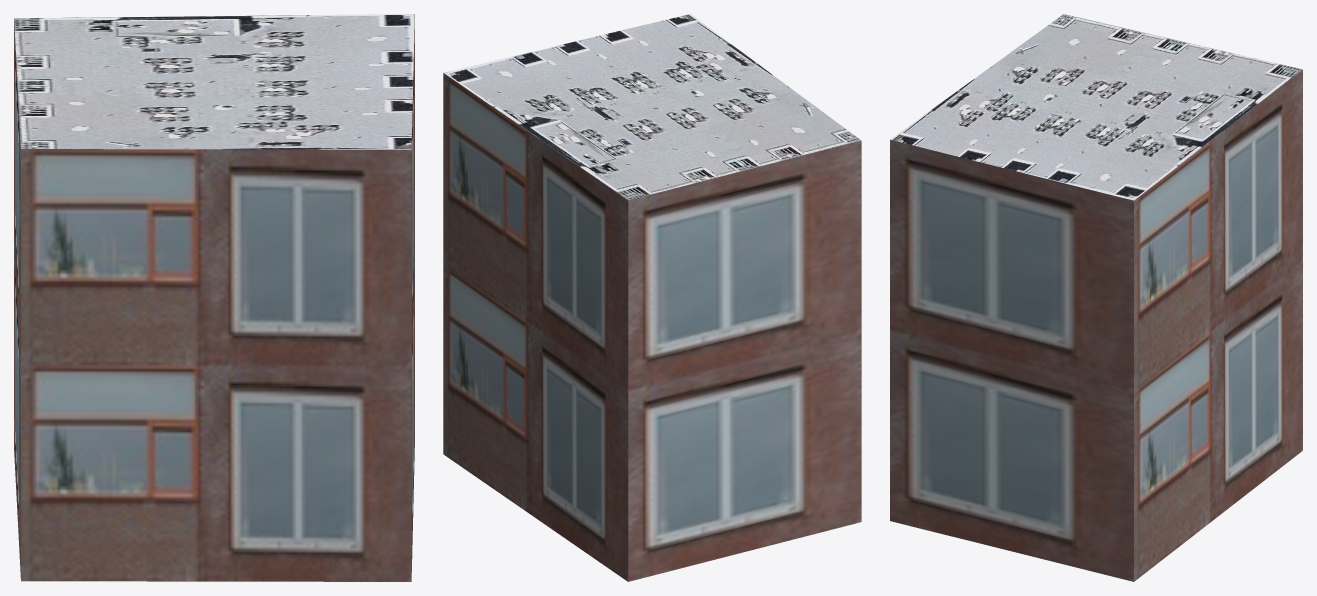
The model's file is ResTex__1206.fbx.
3 renders of one model, left to right at view 1: azimuth 30°, elevation 25°; view 2: azimuth 150°, elevation 25°; view 3: azimuth 270°, elevation 25°, orthographic. The views are drawn at different scales.
Visible parts, largest first — view 1: CityEngineMaterial_19_m, CityEngineMaterial_15_m; view 2: CityEngineMaterial_19_m, CityEngineMaterial_15_m; view 3: CityEngineMaterial_19_m, CityEngineMaterial_15_m.
Part boxes in pixels (<box>): CityEngineMaterial_19_m: <box>14,15,414,581</box>; CityEngineMaterial_15_m: <box>14,14,414,149</box>; CityEngineMaterial_19_m: <box>443,73,861,581</box>; CityEngineMaterial_15_m: <box>444,14,860,200</box>; CityEngineMaterial_19_m: <box>890,69,1302,581</box>; CityEngineMaterial_15_m: <box>890,14,1302,200</box>.
Size of the model in its own units: 6.3 by 6 by 5.89.
Materials: 2 (2 with a texture image).
